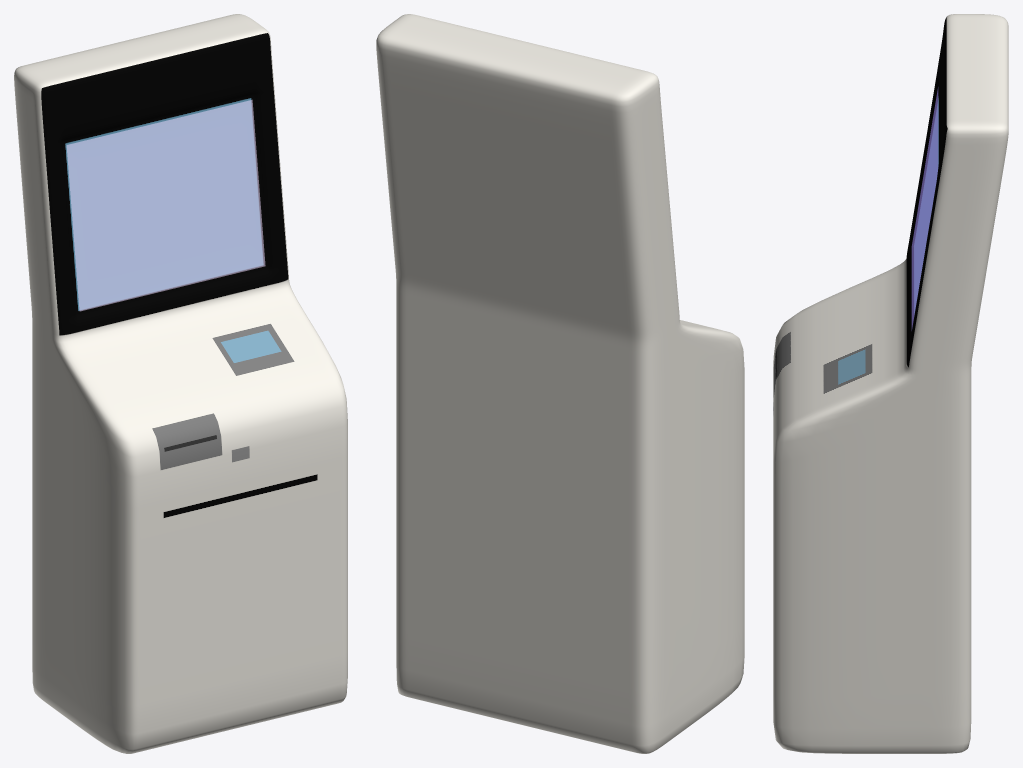
Rendered from check_in.glb.
The picture shows the model from 3 angles, left to right: view 1: azimuth 30°, elevation 25°; view 2: azimuth 150°, elevation 25°; view 3: azimuth 270°, elevation 25°; orthographic projection. The views are drawn at different scales.
Visible parts, largest first — view 1: Cube, Cube.001; view 2: Cube; view 3: Cube, Cube.001.
Boxes of the visible parts, box(x1,y1,x2,y2) form: Cube: box(14, 14, 347, 753); Cube.001: box(66, 100, 265, 311); Cube: box(376, 14, 744, 753); Cube: box(773, 14, 1008, 753); Cube.001: box(911, 87, 938, 330).
Size of the model in its own units: 1.2 by 3 by 1.02.
Materials: 2 (1 with a texture image).
